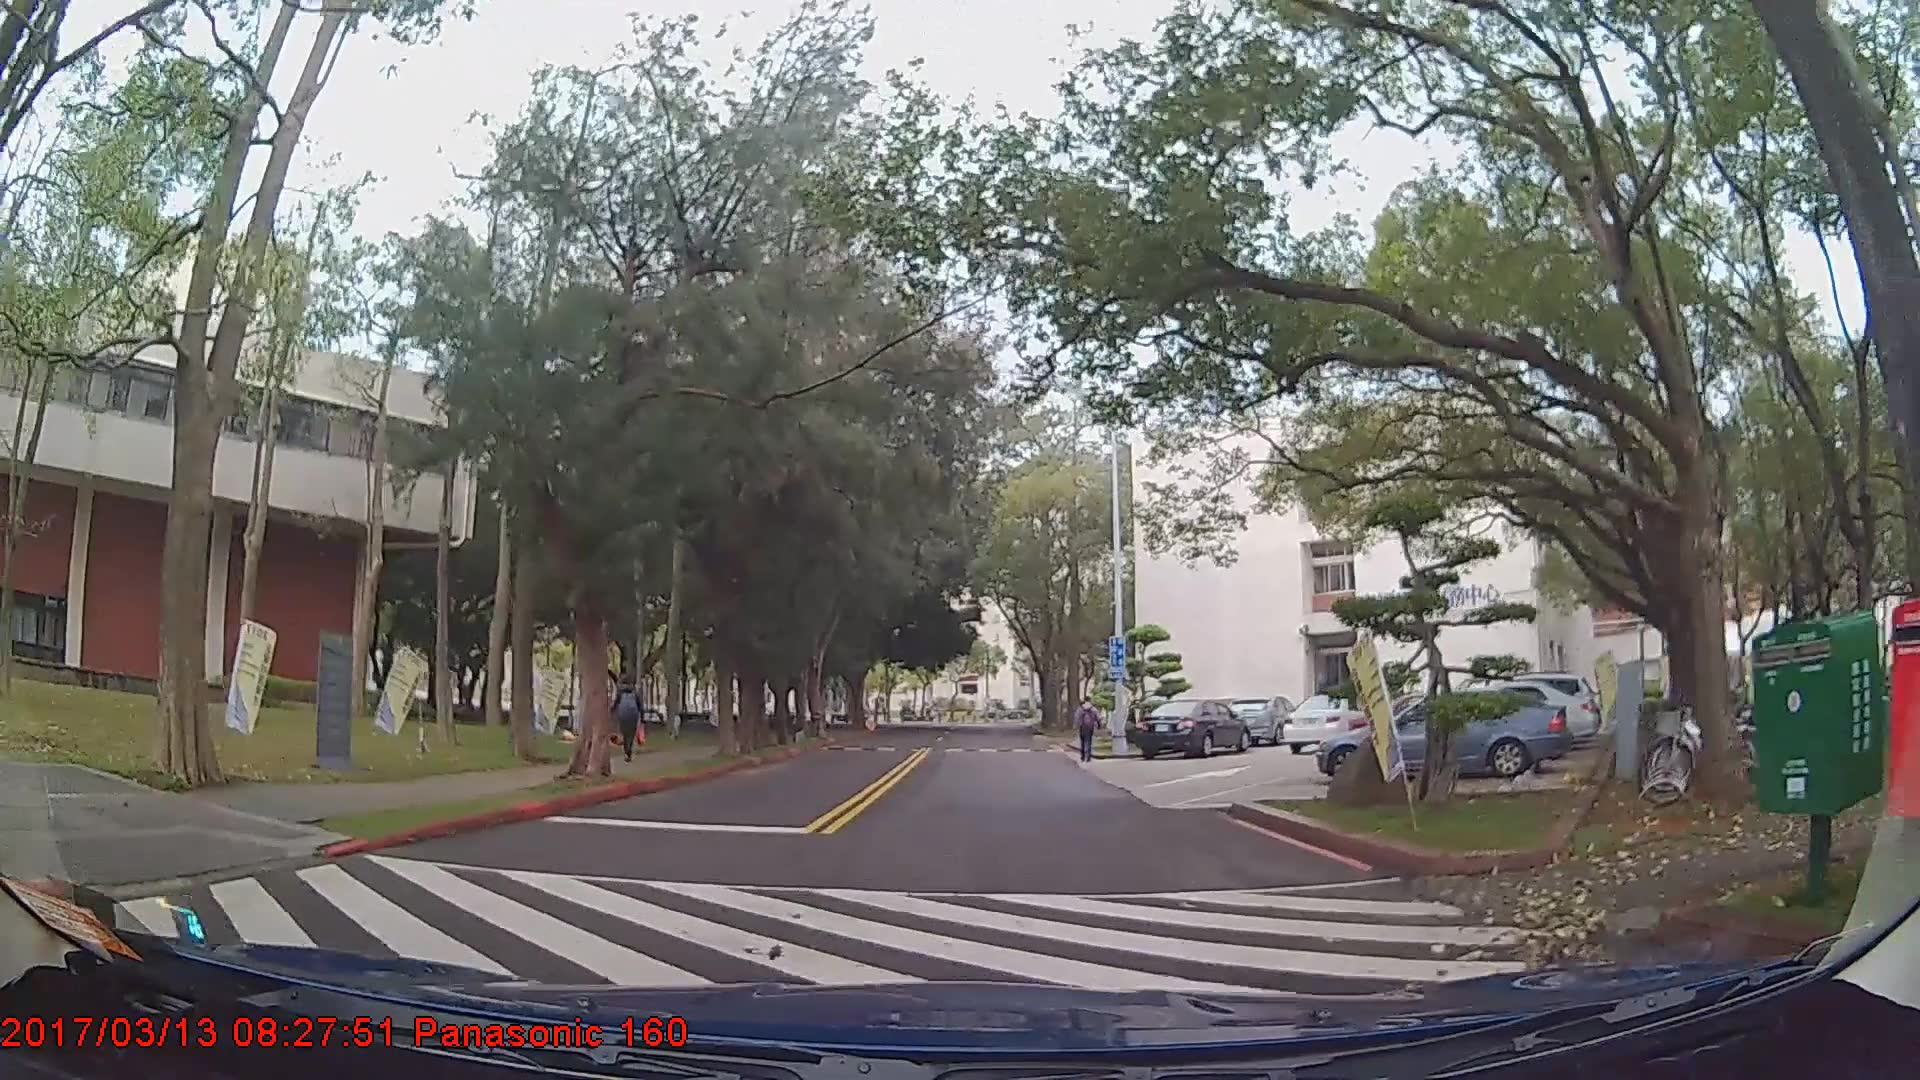pedestrian: (612, 672, 646, 759), (1072, 694, 1102, 762)
vehicle: (1315, 686, 1571, 784), (1427, 678, 1596, 750), (1130, 696, 1252, 757), (1283, 690, 1374, 752), (1225, 696, 1307, 747)
